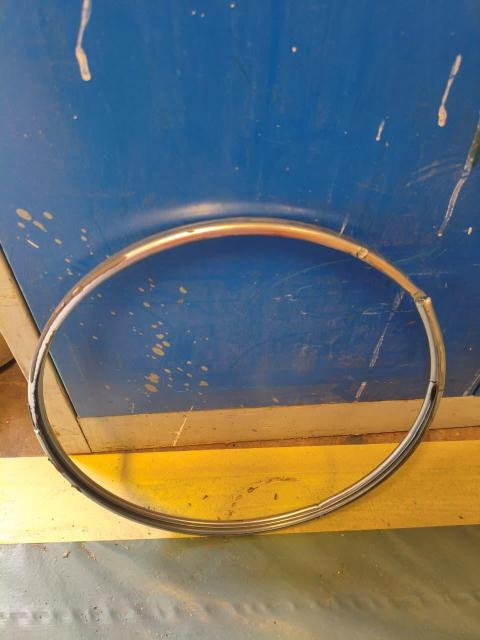Metal: (22, 218, 470, 540)
